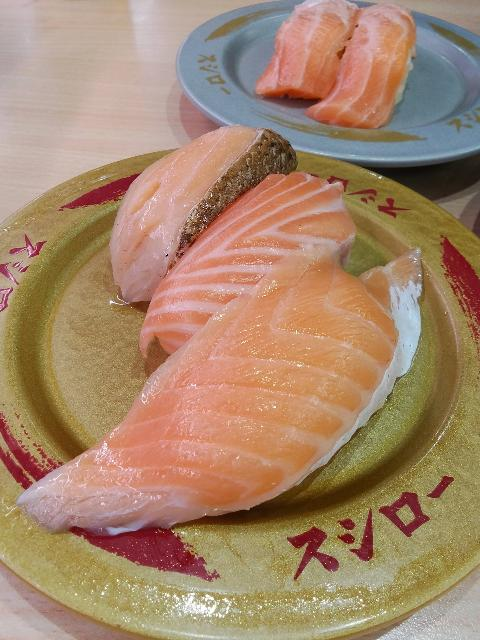jangold: (5, 190, 480, 610)
janwhite: (159, 10, 480, 166)
